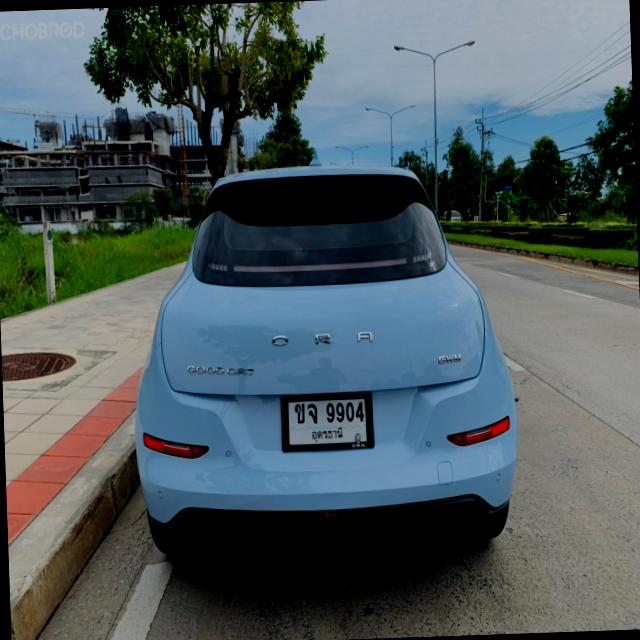license_plate: (280, 390, 374, 450)
